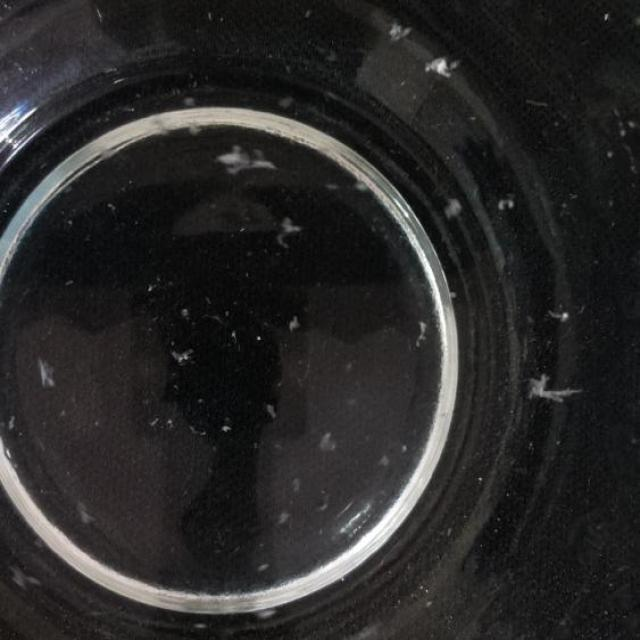fiber: (506, 356, 588, 414), (215, 131, 295, 184), (2, 557, 55, 598), (420, 38, 460, 91), (434, 184, 474, 233), (68, 483, 100, 528), (30, 350, 64, 391), (164, 334, 202, 368), (275, 208, 309, 244), (378, 5, 410, 43), (412, 312, 433, 361), (550, 292, 573, 330), (315, 420, 343, 450), (491, 183, 516, 214), (215, 410, 235, 447), (284, 314, 300, 340)
